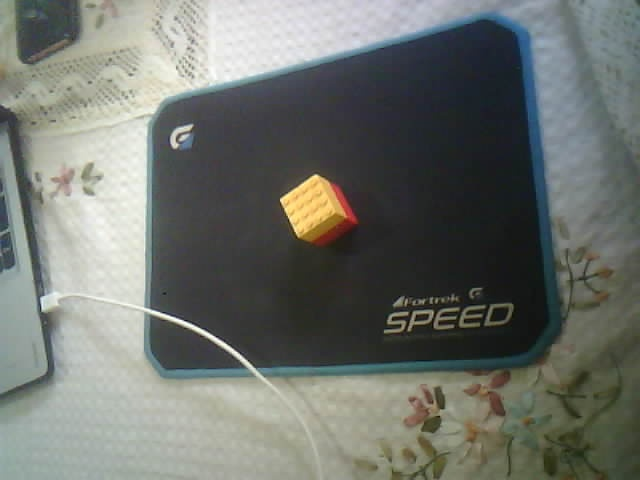lego: (278, 173, 358, 248)
